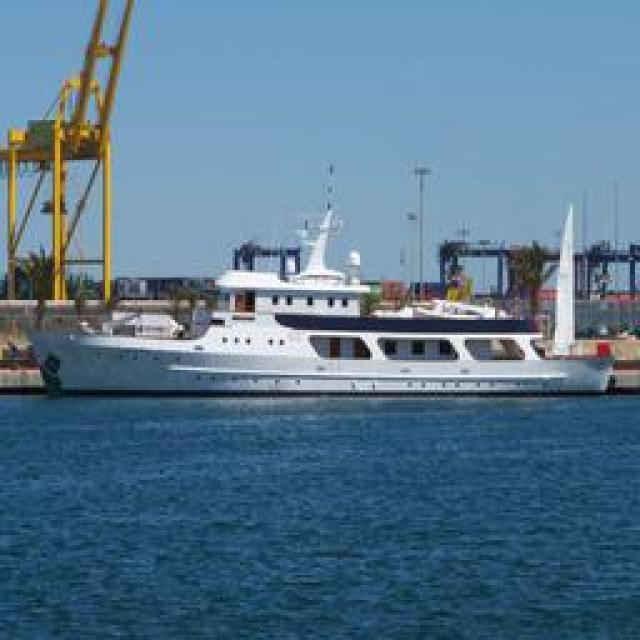ship2: (31, 163, 614, 396)
